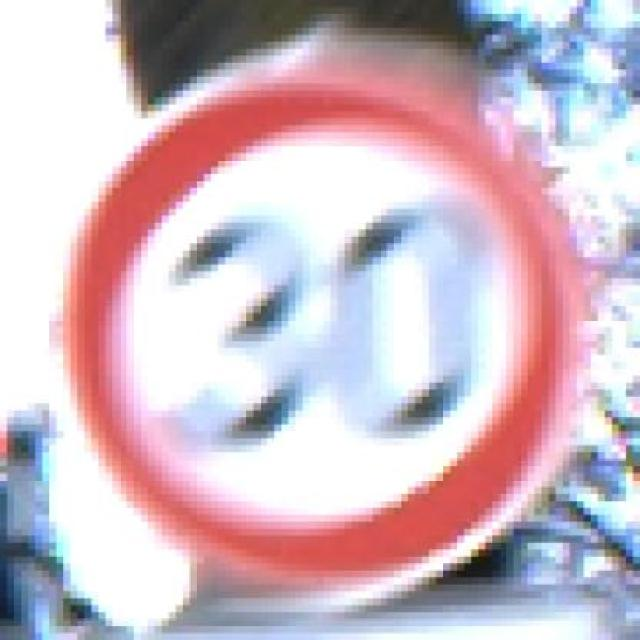Speed Limit 30 KMPh: (35, 63, 591, 599)
